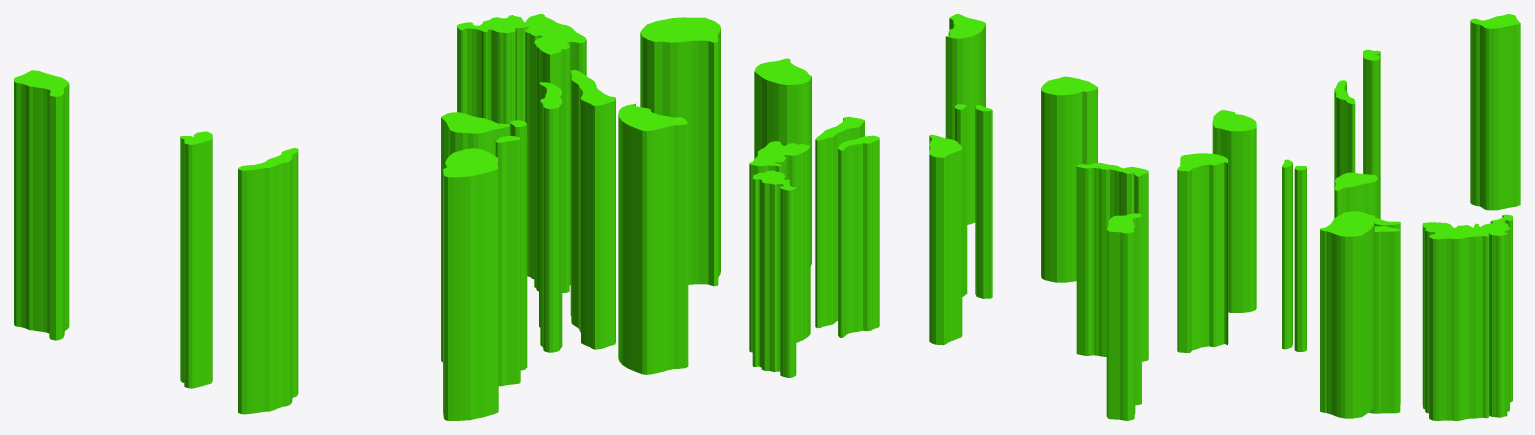
Rendered from wood_area01_noscale.dae.
The picture shows the model from 3 angles, left to right: view 1: azimuth 30°, elevation 25°; view 2: azimuth 150°, elevation 25°; view 3: azimuth 270°, elevation 25°; orthographic projection. The views are drawn at different scales.
Visible parts, largest first — view 1: Object_013, Object_002, Object_015, Object_005, Object_016, Object_008, Object_007, Object_003, Object_009, Object_006, Object_012, Object_010 (+1 smaller); view 2: Object_015, Object_006, Object_009, Object_005, Object_010, Object_002, Object_008, Object_007, Object_016, Object_013, Object_012, Object_003 (+1 smaller); view 3: Object_007, Object_016, Object_013, Object_005, Object_015, Object_008, Object_006, Object_011, Object_003, Object_012, Object_002, Object_010 (+1 smaller).
Boxes of the visible parts, left/top/right/bottom form: Object_013: left=618, top=103, right=688, bottom=374; Object_002: left=238, top=148, right=298, bottom=414; Object_015: left=443, top=148, right=498, bottom=420; Object_005: left=14, top=70, right=69, bottom=340; Object_016: left=640, top=17, right=720, bottom=286; Object_008: left=570, top=70, right=615, bottom=349; Object_007: left=515, top=14, right=586, bottom=292; Object_003: left=180, top=131, right=212, bottom=388; Object_009: left=539, top=82, right=562, bottom=352; Object_006: left=457, top=15, right=524, bottom=124; Object_012: left=495, top=135, right=520, bottom=386; Object_010: left=441, top=112, right=510, bottom=362; Object_015: left=1041, top=76, right=1097, bottom=282; Object_006: left=752, top=170, right=796, bottom=377; Object_009: left=838, top=135, right=879, bottom=337; Object_005: left=1106, top=213, right=1141, bottom=420; Object_010: left=929, top=134, right=962, bottom=345; Object_002: left=1076, top=163, right=1123, bottom=356; Object_008: left=815, top=116, right=864, bottom=328; Object_007: left=749, top=141, right=810, bottom=352; Object_016: left=754, top=58, right=811, bottom=265; Object_013: left=945, top=14, right=985, bottom=224; Object_012: left=975, top=105, right=992, bottom=298; Object_003: left=1120, top=166, right=1148, bottom=361; Object_007: left=1422, top=222, right=1489, bottom=420; Object_016: left=1320, top=211, right=1374, bottom=418; Object_013: left=1177, top=153, right=1228, bottom=352; Object_005: left=1470, top=14, right=1520, bottom=210; Object_015: left=1212, top=110, right=1256, bottom=312; Object_008: left=1369, top=226, right=1400, bottom=413; Object_006: left=1481, top=214, right=1512, bottom=417; Object_011: left=1294, top=166, right=1306, bottom=351; Object_003: left=1363, top=49, right=1380, bottom=218; Object_012: left=1282, top=159, right=1292, bottom=349; Object_002: left=1334, top=80, right=1355, bottom=218; Object_010: left=1335, top=172, right=1378, bottom=218.
Size of the model in its own units: 946 by 633 by 474.
